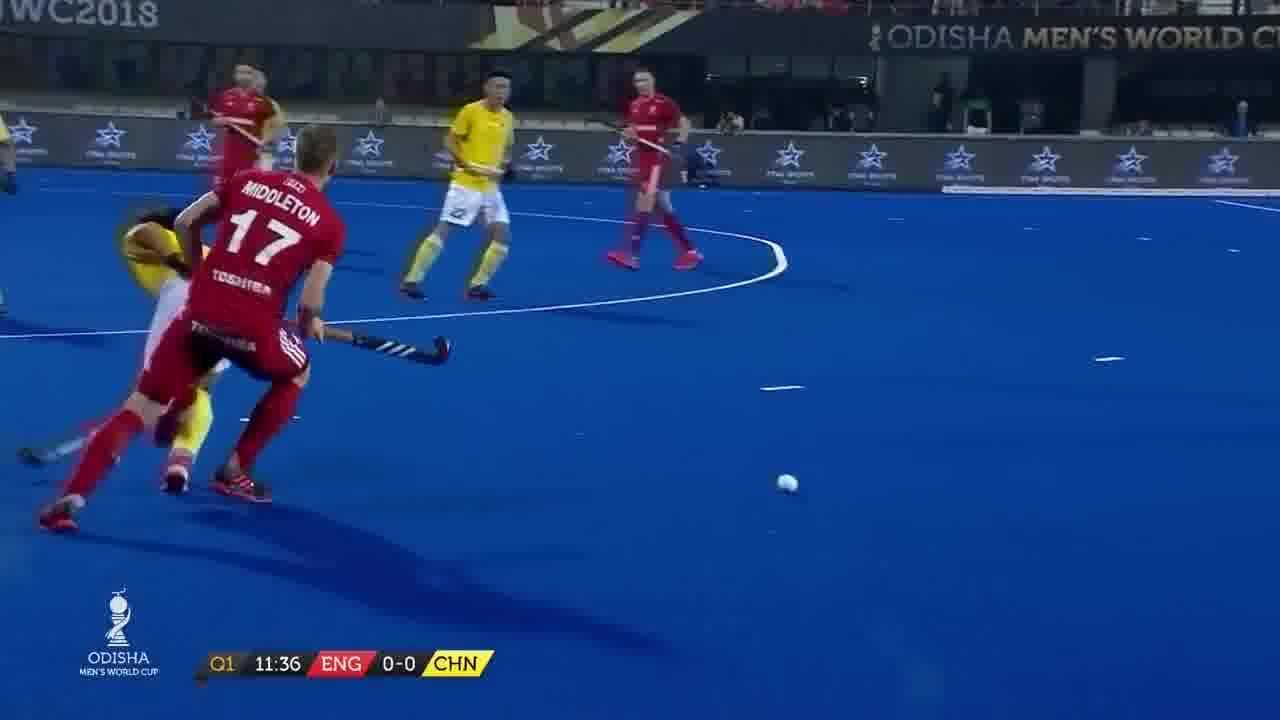ball: (776, 470, 804, 498)
